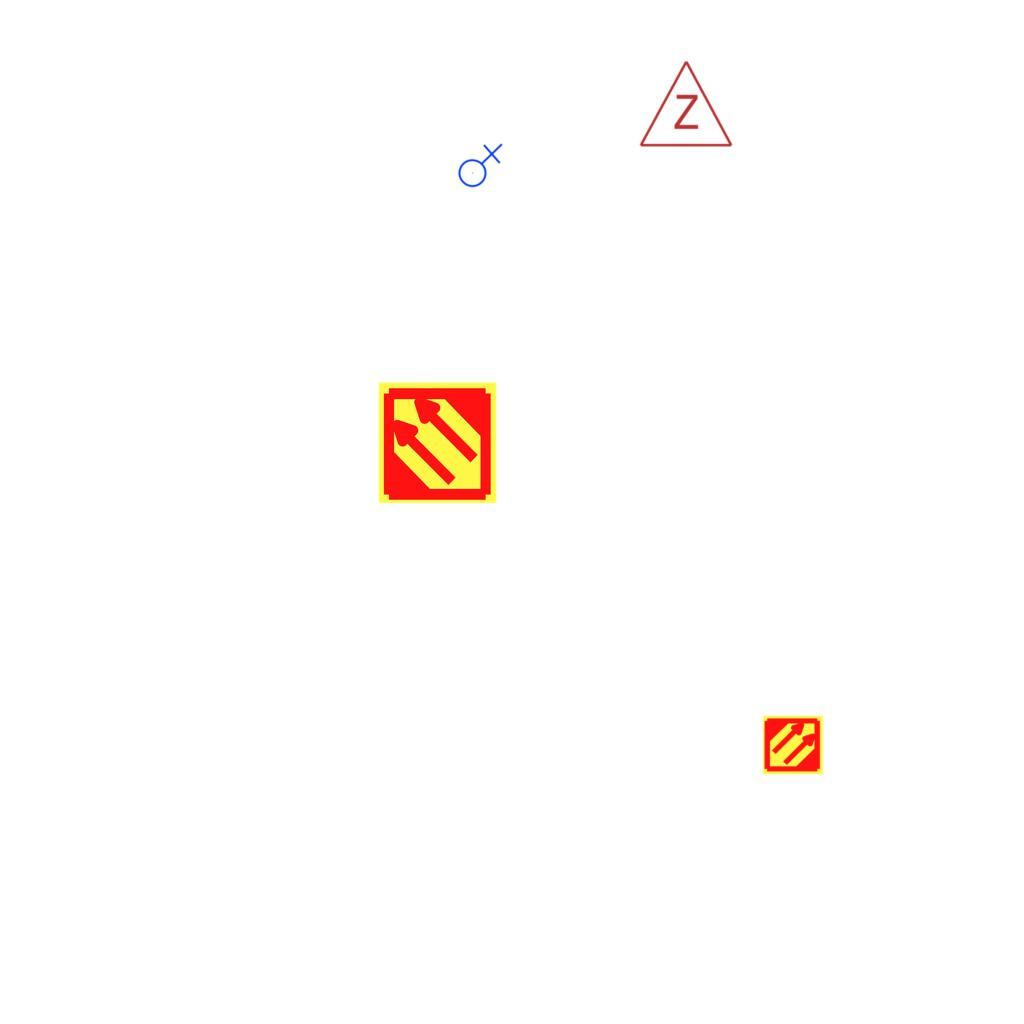ASR_Ansaugrauchmelder: (375, 380, 500, 505), (762, 714, 824, 776)
Elektroanschluss_allgemein_230V_Geraeteanschlussdose_230V: (454, 141, 503, 188)
Zimmersignalleuchte: (636, 54, 734, 154)
